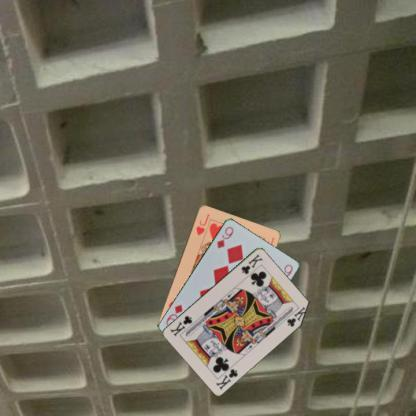9d: (214, 224, 235, 250)
Jh: (193, 211, 211, 236)
Kc: (213, 366, 239, 390), (239, 251, 264, 275)
